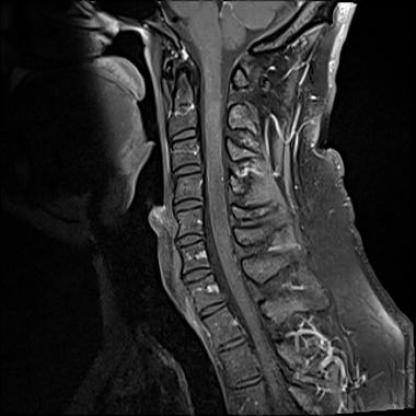Disc Bulgerotation: (181, 261, 215, 288), (173, 162, 205, 178)
